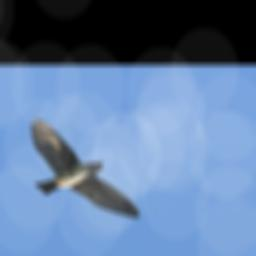Swallow: (26, 118, 136, 220)
